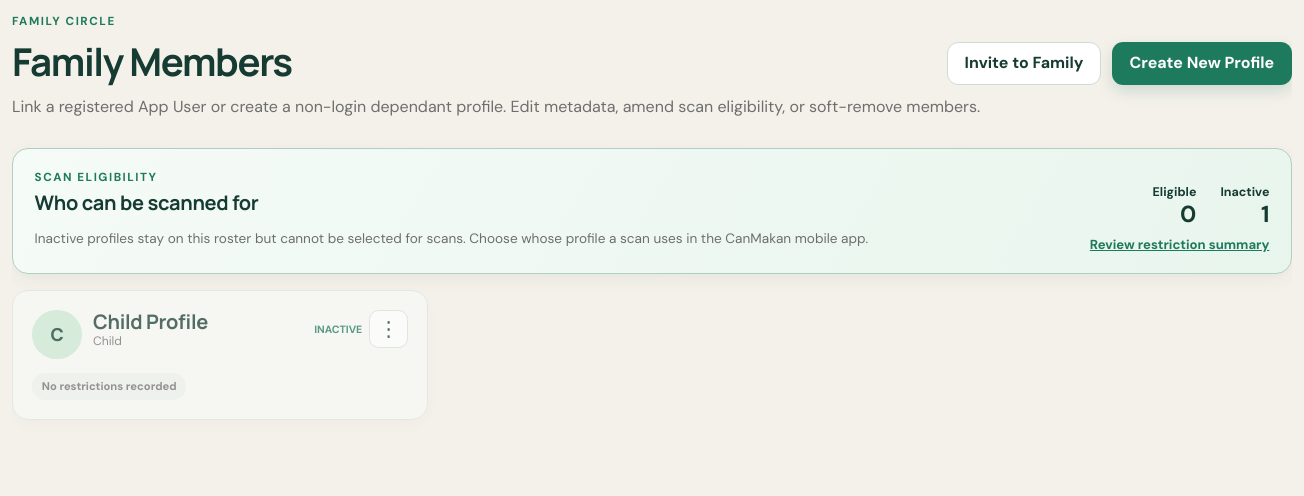
Test case: FamilyMembersPage › reactivates an inactive profile without a confirm dialog
Expected: the heading "Child Profile" is shown, 93,308 -> 208,335
Expected: the text "Inactive" next to "Child Profile" is shown, 314,322 -> 362,336
Click the button named "Actions for Child Profile": [389, 329] box 369,310 -> 408,348
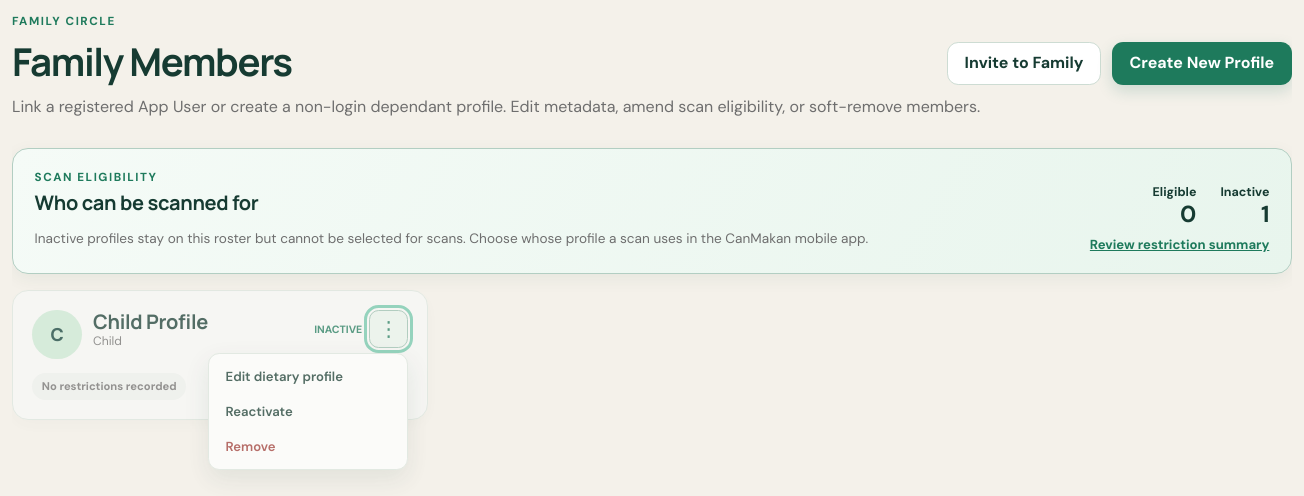
Click the menu item "Reactivate": [308, 412] box 214,394 -> 401,429
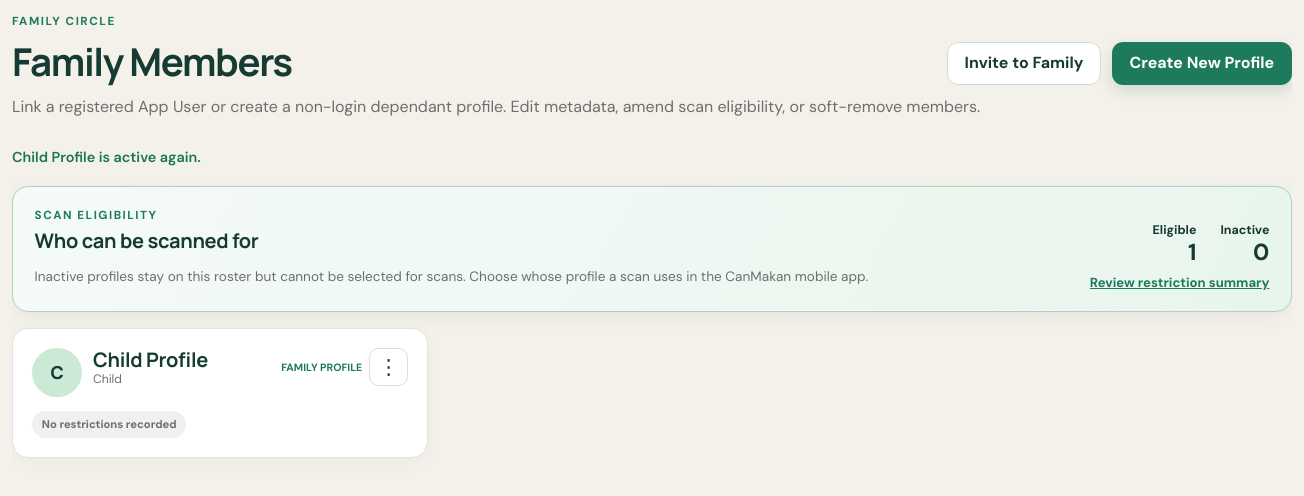
Expected: the text "Child Profile is active again." is shown, 12,148 -> 201,166
